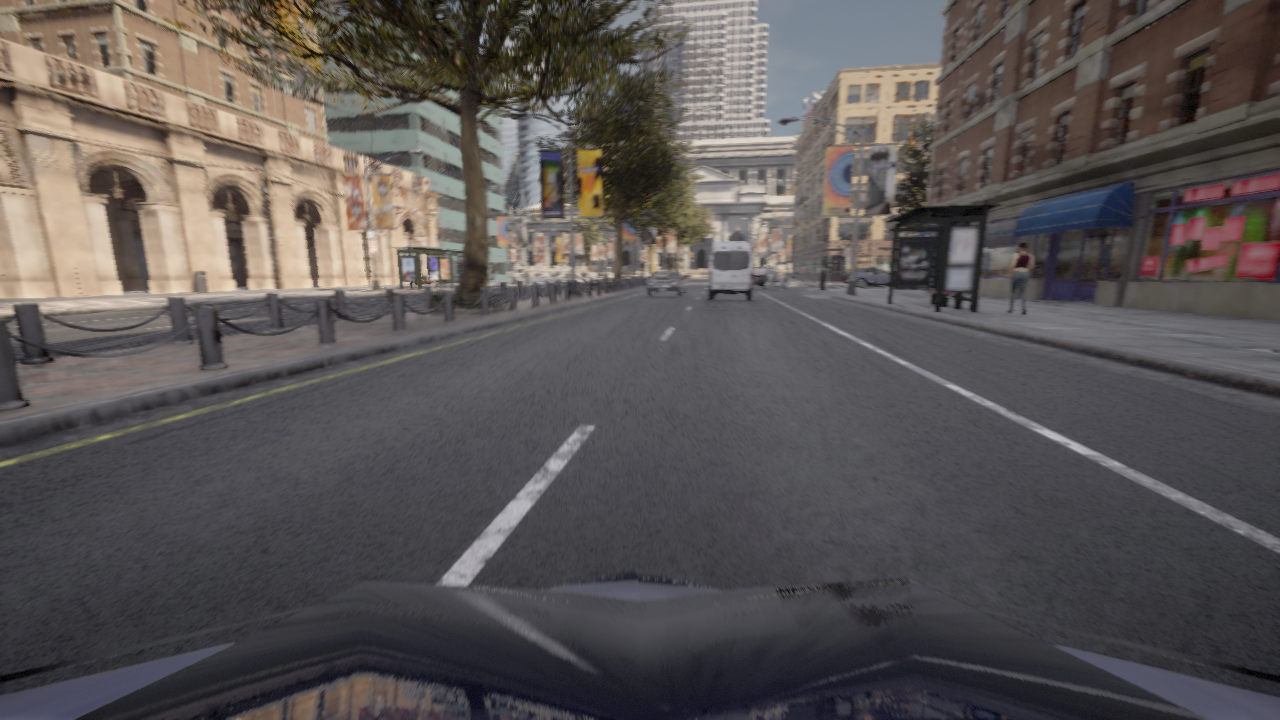cyclist: (0, 569, 1279, 719), (708, 242, 754, 299), (645, 272, 686, 295), (843, 268, 888, 287), (753, 267, 788, 289)
pedestrian: (1005, 242, 1033, 315), (414, 282, 417, 287)
